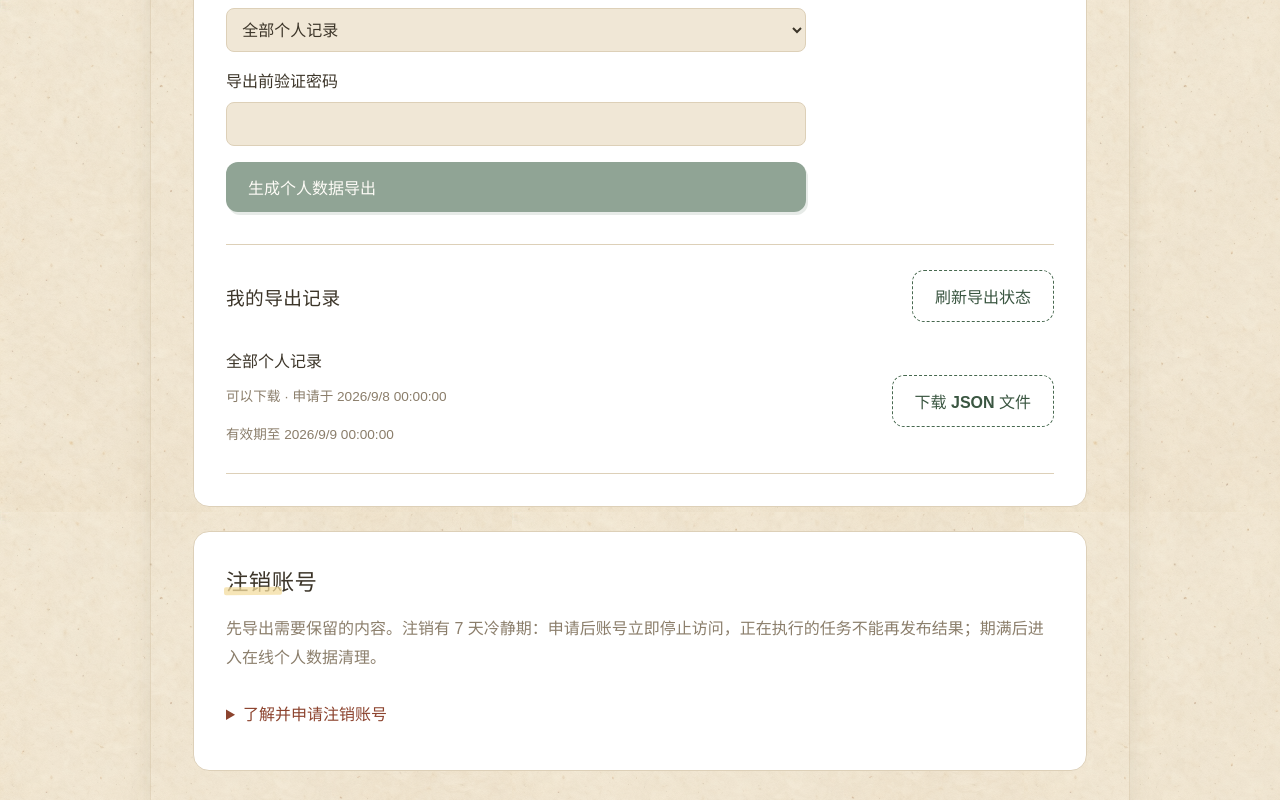
下载已撤权不会创建Blob或伪装保存成功
(page scrolled)
Click the button "下载 JSON 文件".
click(973, 401)  # box [892,375,1054,427]
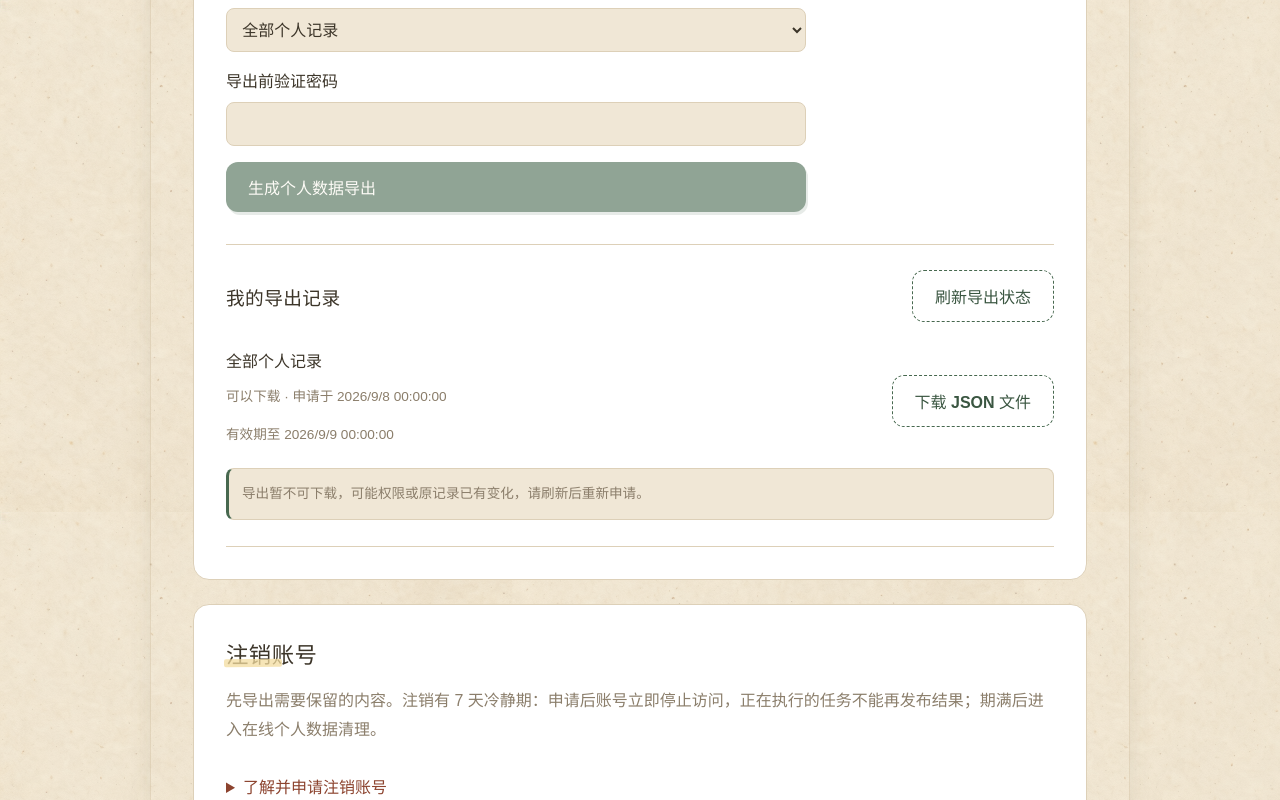
Check: the message "导出暂不可下载，可能权限或原记录已有变化，请刷新后重新申请。" is shown, box [226,468,1054,520]
